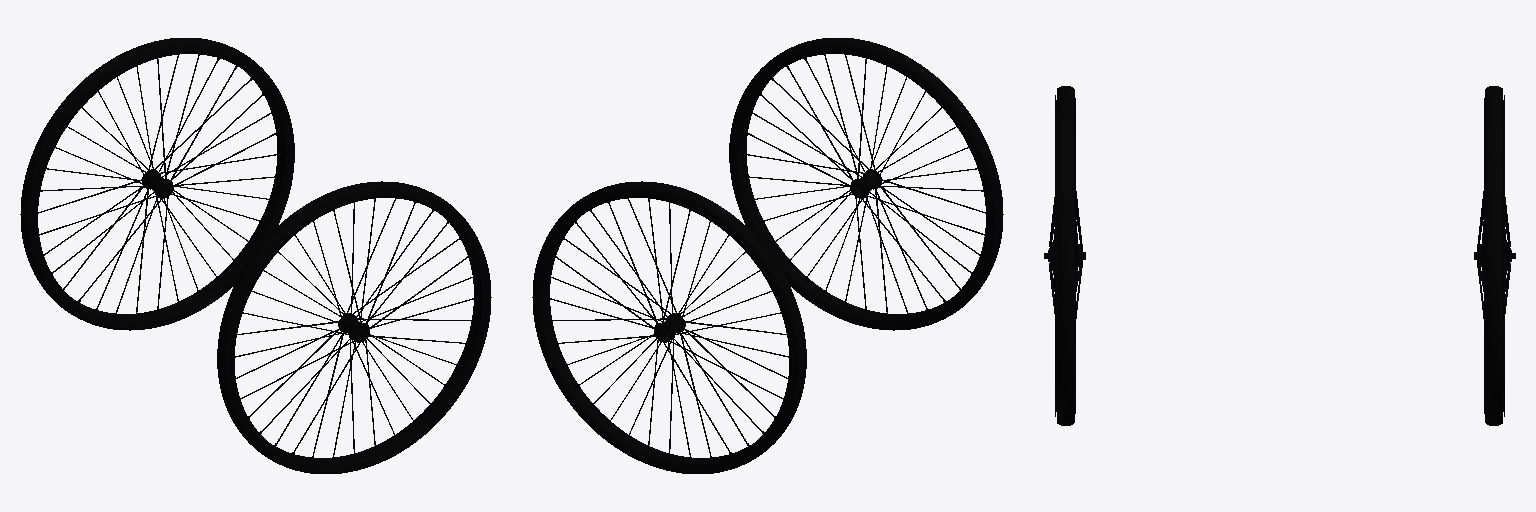
URDF robot description (rickshaw):
<?xml version="1.0"?>
<robot name="rickshaw">
  <!--
    Meshes were exported in a common assembly frame with coordinates that
    appear to be in 0.1 mm units, so all mesh geometry is scaled by 1e-4.
    The base_link frame is on the ground below the wheel axle. Its axes match
    Unitree G1: +X forward, +Y left, and +Z up. The wheel diameter is 0.6 m;
    the body is lowered 0.074999 m to keep the CAD axle and wheel centers
    concentric.
  -->

  <material name="rickshaw_body_dark_red">
    <color rgba="0.18 0.004 0.008 1.0"/>
  </material>

  <material name="rickshaw_wheel_dark">
    <color rgba="0.05 0.05 0.05 1.0"/>
  </material>

  <link name="base_link">
    <inertial>
      <!-- Body CoM is fixed at x=0.1 m in the assembly frame. -->
      <origin xyz="0.1 0 0.6276898532066667" rpy="0 0 0"/>
      <mass value="36.0"/>
      <inertia
        ixx="7.393572" ixy="0" ixz="0"
        iyy="22.277208" iyz="0"
        izz="17.829456"/>
    </inertial>
    <visual>
      <origin xyz="1.94034 -0.414504 -0.074999" rpy="0 0 1.57079632679"/>
      <geometry>
        <mesh filename="body.stl" scale="0.0001 0.0001 0.0001"/>
      </geometry>
      <material name="rickshaw_body_dark_red"/>
    </visual>
    <collision>
      <origin xyz="1.94034 -0.414504 -0.074999" rpy="0 0 1.57079632679"/>
      <geometry>
        <mesh filename="body_collision.stl" scale="0.0001 0.0001 0.0001"/>
      </geometry>
    </collision>
  </link>

  <link name="left_wheel_link">
    <inertial>
      <origin xyz="0 0 0" rpy="0 0 0"/>
      <mass value="2.0"/>
      <inertia
        ixx="0.04587720205066667" ixy="0" ixz="0"
        iyy="0.09" iyz="0"
        izz="0.04587720205066667"/>
    </inertial>
    <visual>
      <origin xyz="1.552272 -0.792735 -0.3" rpy="0 0 1.57079632679"/>
      <geometry>
        <mesh filename="right_wheel.stl" scale="0.0001 0.00008 0.00008"/>
      </geometry>
      <material name="rickshaw_wheel_dark"/>
    </visual>
    <collision>
      <origin xyz="0 0 0" rpy="1.57079632679 0 0"/>
      <geometry>
        <cylinder radius="0.3" length="0.072548"/>
      </geometry>
    </collision>
  </link>

  <link name="right_wheel_link">
    <inertial>
      <origin xyz="0 0 0" rpy="0 0 0"/>
      <mass value="2.0"/>
      <inertia
        ixx="0.04587720205066667" ixy="0" ixz="0"
        iyy="0.09" iyz="0"
        izz="0.04587720205066667"/>
    </inertial>
    <visual>
      <origin xyz="1.552272 -0.036274 -0.3" rpy="0 0 1.57079632679"/>
      <geometry>
        <mesh filename="left_wheel.stl" scale="0.0001 0.00008 0.00008"/>
      </geometry>
      <material name="rickshaw_wheel_dark"/>
    </visual>
    <collision>
      <origin xyz="0 0 0" rpy="1.57079632679 0 0"/>
      <geometry>
        <cylinder radius="0.3" length="0.072548"/>
      </geometry>
    </collision>
  </link>

  <joint name="left_wheel_joint" type="continuous">
    <parent link="base_link"/>
    <child link="left_wheel_link"/>
    <origin xyz="0 0.378231 0.3" rpy="0 0 0"/>
    <axis xyz="0 1 0"/>
    <dynamics damping="0.02" friction="0.0"/>
  </joint>

  <joint name="right_wheel_joint" type="continuous">
    <parent link="base_link"/>
    <child link="right_wheel_link"/>
    <origin xyz="0 -0.378231 0.3" rpy="0 0 0"/>
    <axis xyz="0 1 0"/>
    <dynamics damping="0.02" friction="0.0"/>
  </joint>

  <!--
    body.stl centerline points are (+/-0.276, -1.664929, 0.180746).
    Rz(+pi/2) maps them to (+1.664929, +/-0.276, 0.180746), then the
    body/wheel alignment offset maps Z to 0.105747 in base_link.
  -->
  <link name="left_tow_hitch_link">
    <inertial>
      <origin xyz="0 0 0" rpy="0 0 0"/>
      <mass value="0.02"/>
      <inertia
        ixx="0.0001" ixy="0" ixz="0"
        iyy="0.0001" iyz="0"
        izz="0.0001"/>
    </inertial>
  </link>

  <joint name="left_tow_hitch_joint" type="fixed">
    <parent link="base_link"/>
    <child link="left_tow_hitch_link"/>
    <origin xyz="1.664929 0.276 0.105747" rpy="0 0 0"/>
  </joint>

  <link name="right_tow_hitch_link">
    <inertial>
      <origin xyz="0 0 0" rpy="0 0 0"/>
      <mass value="0.02"/>
      <inertia
        ixx="0.0001" ixy="0" ixz="0"
        iyy="0.0001" iyz="0"
        izz="0.0001"/>
    </inertial>
  </link>

  <joint name="right_tow_hitch_joint" type="fixed">
    <parent link="base_link"/>
    <child link="right_tow_hitch_link"/>
    <origin xyz="1.664929 -0.276 0.105747" rpy="0 0 0"/>
  </joint>
</robot>

--- What the picture shows (computed from the rendered views, not written in the file) ---
The picture shows the robot from 3 angles, left to right: view 1: azimuth 30°, elevation 25°; view 2: azimuth 150°, elevation 25°; view 3: azimuth 270°, elevation 25°; orthographic projection.
Robot: rickshaw — 5 links, 4 joints (2 continuous, 2 fixed); root link base_link; default pose: every joint at zero.
Visible links, largest first — view 1: right_wheel_link, left_wheel_link; view 2: left_wheel_link, right_wheel_link; view 3: left_wheel_link, right_wheel_link.
Link boxes in pixels (x1=…): right_wheel_link: x1=217, y1=181, x2=491, y2=473; left_wheel_link: x1=20, y1=38, x2=294, y2=330; left_wheel_link: x1=532, y1=181, x2=806, y2=473; right_wheel_link: x1=729, y1=38, x2=1003, y2=330; left_wheel_link: x1=1474, y1=86, x2=1515, y2=425; right_wheel_link: x1=1044, y1=86, x2=1085, y2=425.
Bounding box of the posed robot: 0.6 × 0.829 × 0.6 m (x, y, z).
2 mesh visuals loaded from 3 distinct referenced files (2 binary STL); not drawn: 1 (reference not matched to a file when rendering).
